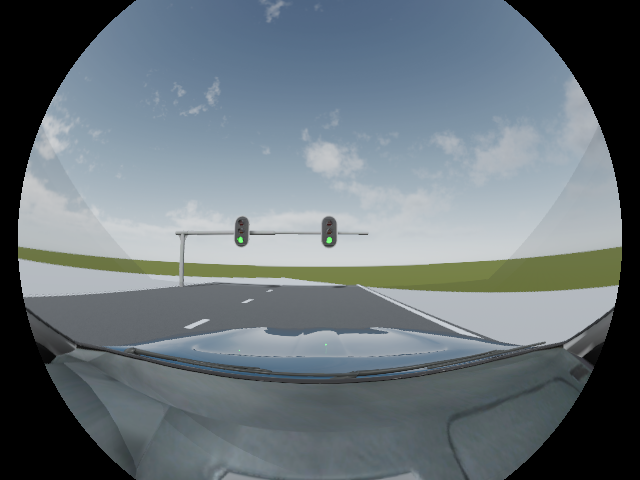Green Light: (234, 215, 249, 247), (322, 216, 337, 248)
